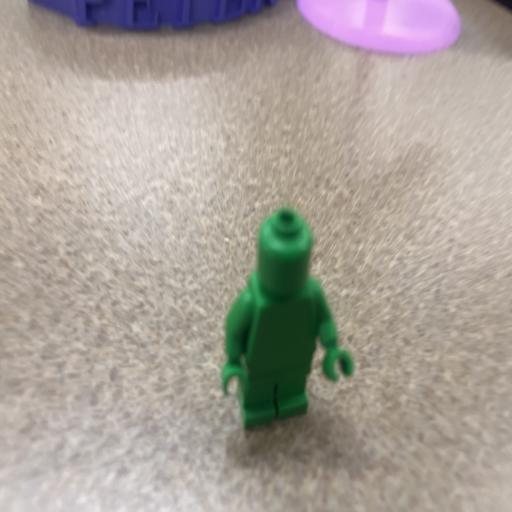Lego-Minifig: (221, 208, 354, 428)
